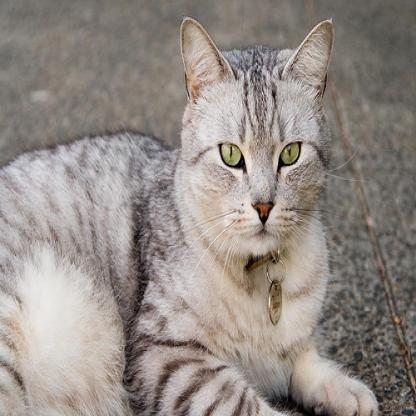Dog: (175, 18, 351, 371)
